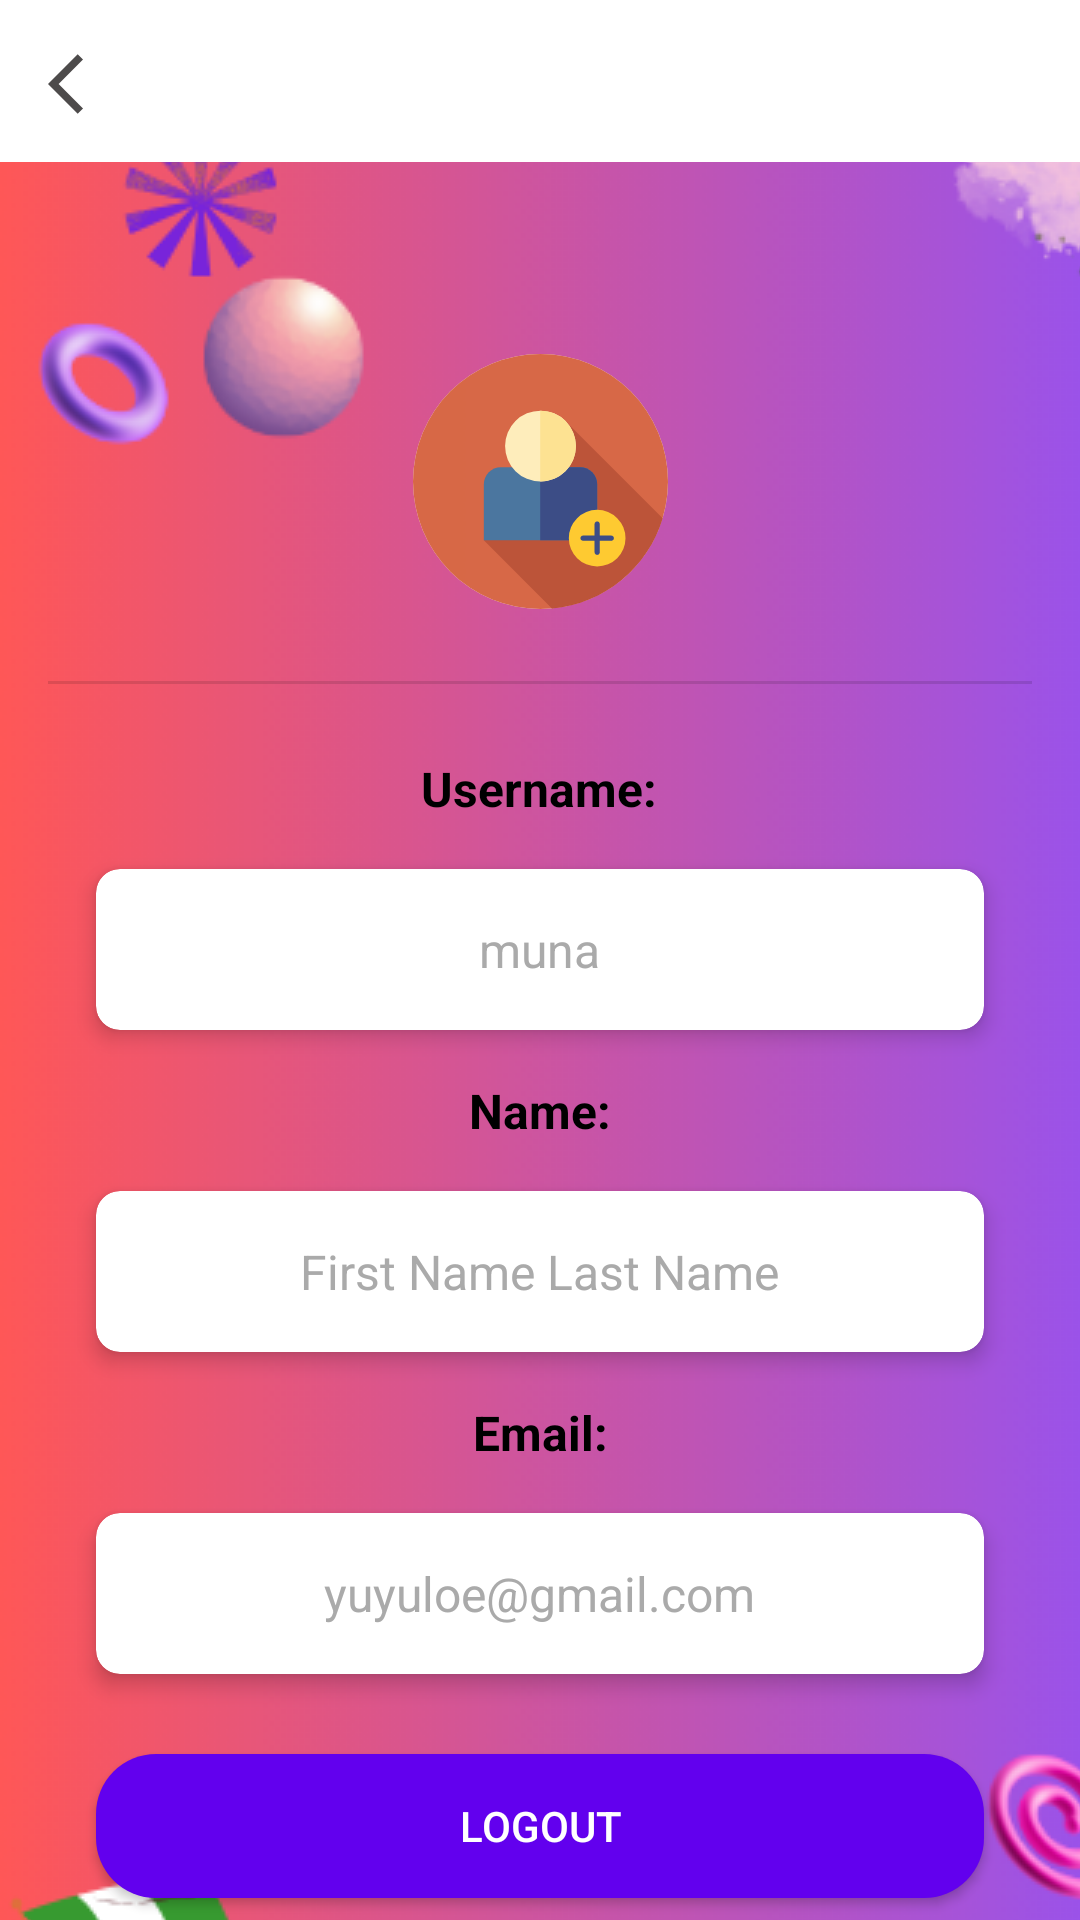

Screen size 1080px×1920px. Icon name, then its center in pixels as point (x, y):
Profile: point (540, 481)
